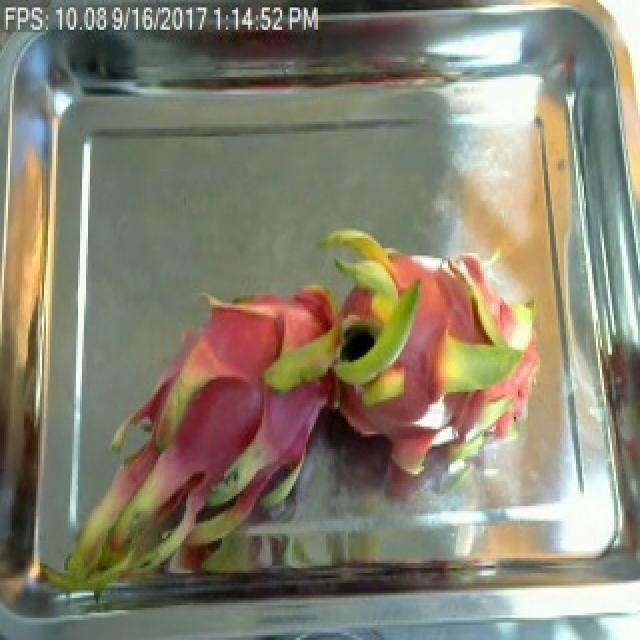Fruit: (428, 370, 514, 454)
